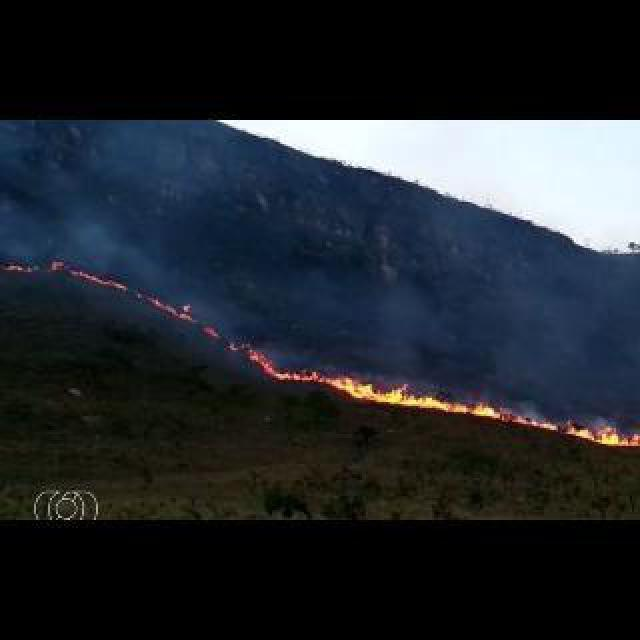Fire: (330, 370, 498, 412), (566, 412, 638, 450), (252, 342, 328, 378), (140, 290, 194, 318), (68, 268, 130, 286), (500, 414, 556, 428)
